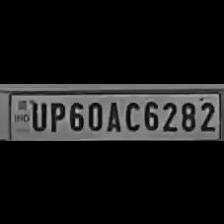0: (86, 97, 104, 130)
2: (159, 98, 177, 132), (198, 98, 216, 132)
6: (66, 98, 84, 132), (140, 97, 158, 131)
8: (178, 98, 196, 132)
A: (104, 97, 120, 132)
C: (122, 97, 140, 131)
P: (47, 98, 65, 132)
U: (28, 98, 46, 132)
